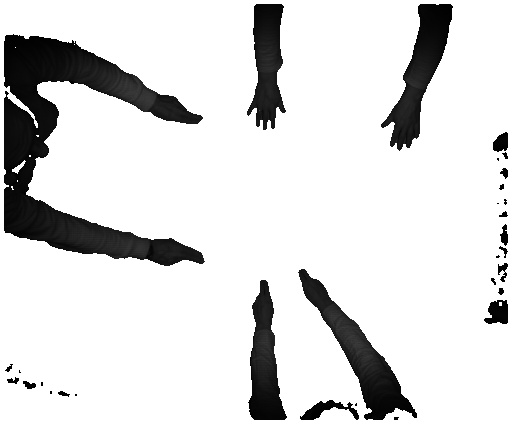hand: (240, 81, 287, 135), (376, 98, 423, 151), (152, 232, 207, 271), (296, 264, 337, 310), (152, 95, 207, 127), (248, 280, 279, 328)
